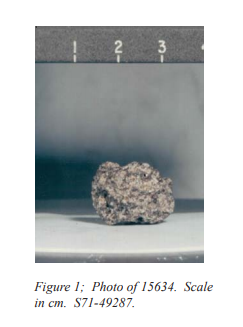Basalt: (72, 135, 177, 230)
